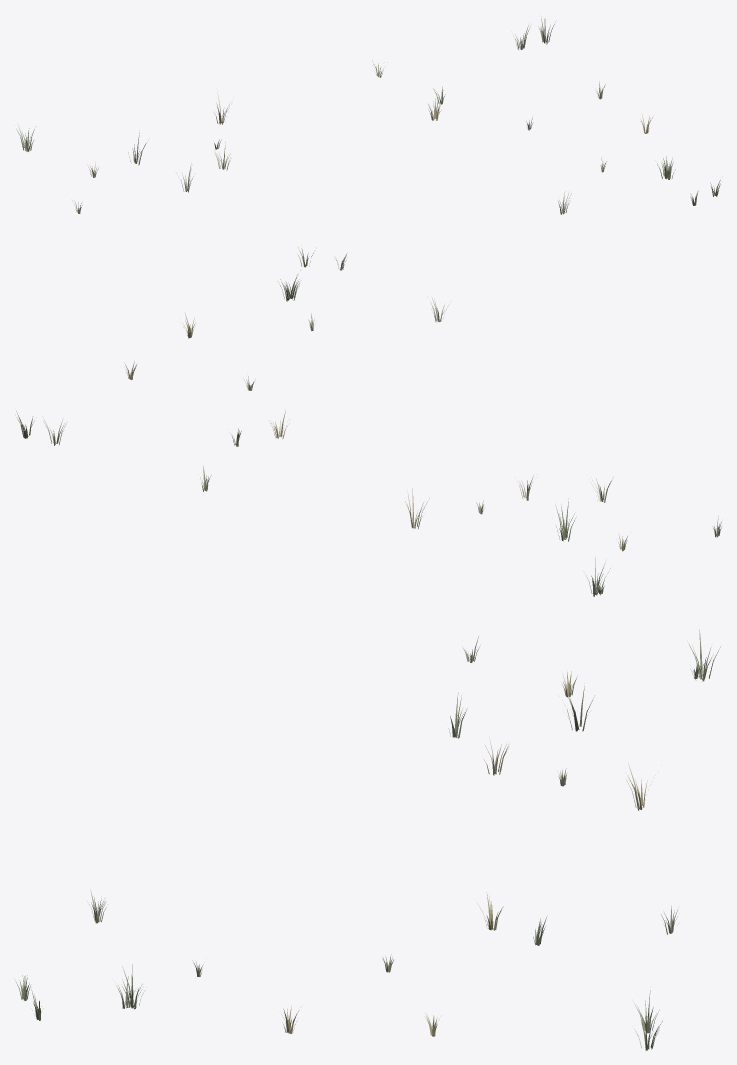
The model's file is AE_Grass_-2_2.fbx.
3 views of the same model, one above another, from view 1: azimuth 30°, elevation 25°; view 2: azimuth 150°, elevation 25°; view 3: azimuth 270°, elevation 25° (orthographic). The views are drawn at different scales.
Parts seen in each view (by area): view 1: AE_Grass_-2_2_LOD0; view 2: AE_Grass_-2_2_LOD0; view 3: AE_Grass_-2_2_LOD0.
Boxes of the visible parts, x1,y1,x2,y2 form: AE_Grass_-2_2_LOD0: (16,16,720,214); AE_Grass_-2_2_LOD0: (16,247,721,596); AE_Grass_-2_2_LOD0: (15,629,720,1050).
Size of what is drawn, in the model's own units: 1794 by 101 by 1354.
